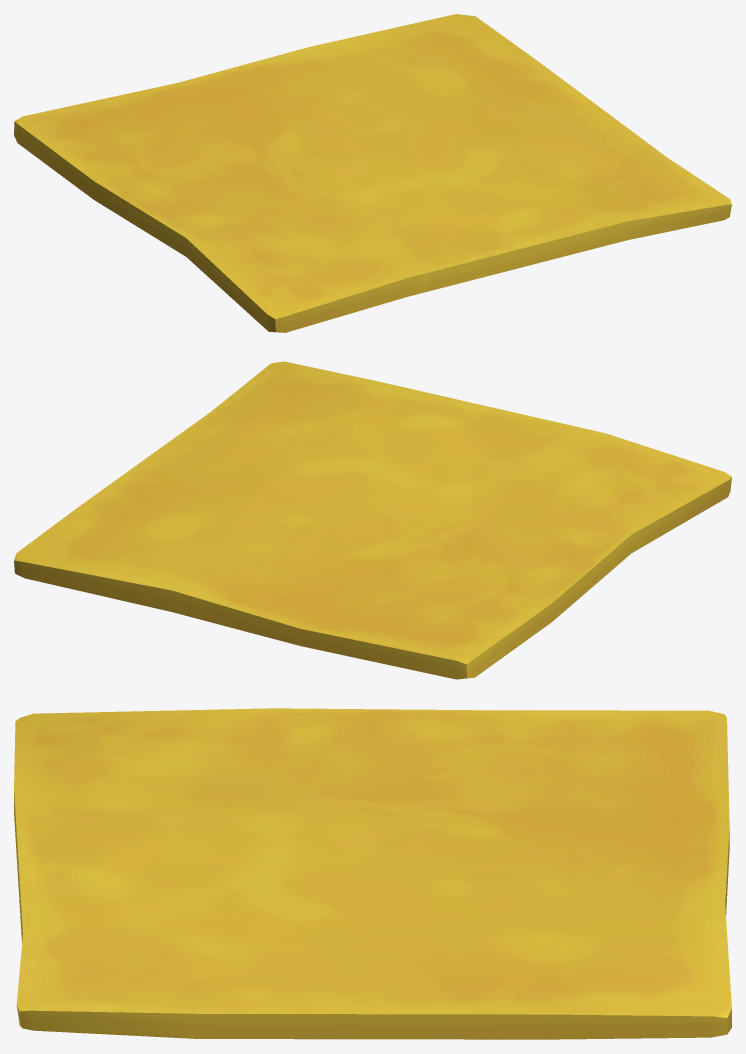
The model's file is SM_CheeseSlice.glb.
3 views of the same model, one above another, from view 1: azimuth 30°, elevation 25°; view 2: azimuth 150°, elevation 25°; view 3: azimuth 270°, elevation 25° (orthographic). The views are drawn at different scales.
Parts seen in each view (by area): view 1: SM_CheeseSlice; view 2: SM_CheeseSlice; view 3: SM_CheeseSlice.
Boxes of the visible parts, x1,y1,x2,y2 form: SM_CheeseSlice: (14, 14, 731, 332); SM_CheeseSlice: (14, 361, 731, 679); SM_CheeseSlice: (14, 708, 731, 1039).
Size of the model in its own units: 0.1801 by 0.0103 by 0.1812.
1 material, 1 textured.
